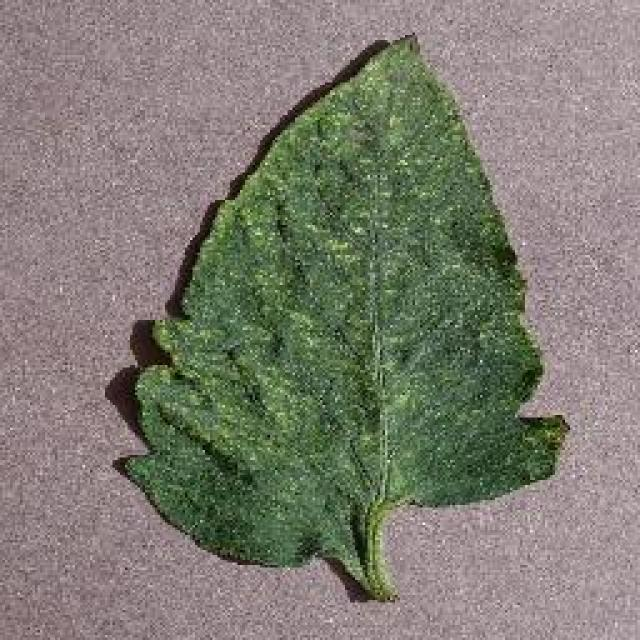Tomato spider mites leaf: (121, 32, 568, 566)
